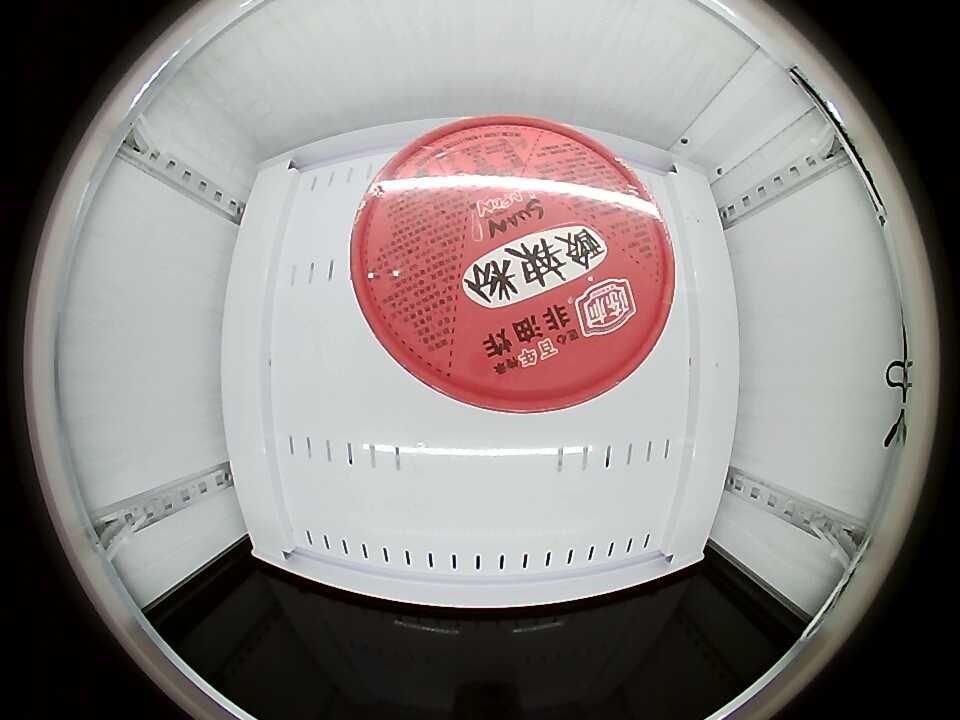suanlafen: (348, 117, 678, 412)
